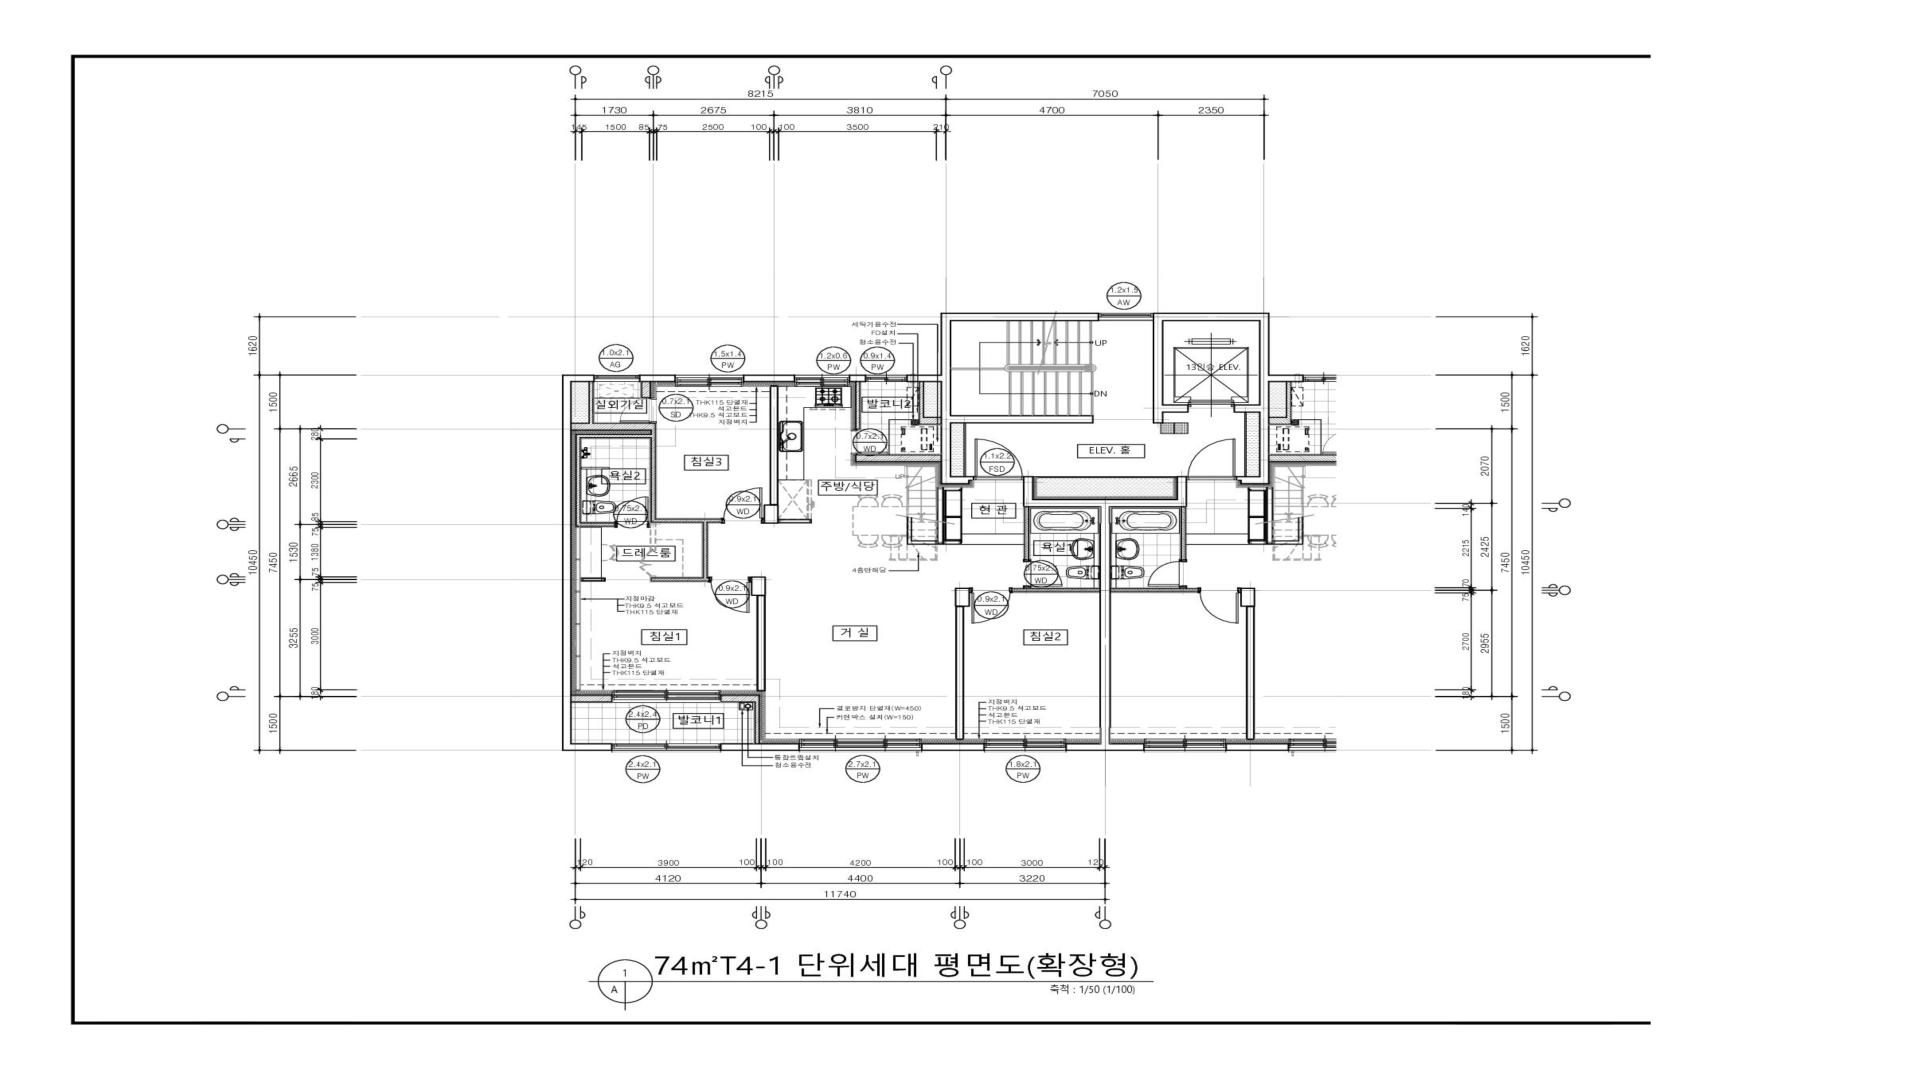door: (975, 438, 1022, 483), (723, 487, 764, 524), (709, 576, 750, 613), (971, 588, 1011, 624), (615, 496, 650, 527), (1023, 560, 1063, 588), (620, 398, 657, 423), (851, 430, 887, 455)
wall: (1023, 476, 1187, 750), (906, 313, 1098, 485), (1153, 313, 1270, 484), (562, 375, 612, 752), (955, 607, 964, 740), (770, 385, 779, 504), (757, 596, 766, 691), (720, 742, 799, 752), (855, 455, 940, 463), (571, 423, 655, 431), (575, 438, 580, 526), (936, 487, 944, 545), (922, 744, 985, 750), (744, 375, 795, 382), (1034, 476, 1176, 479), (651, 431, 655, 522), (1011, 588, 1100, 592), (571, 695, 612, 703), (764, 504, 779, 524), (575, 434, 651, 438), (752, 576, 766, 596), (1025, 506, 1030, 560), (640, 375, 675, 382), (955, 588, 969, 607), (655, 518, 723, 522), (720, 695, 760, 702), (855, 382, 860, 430), (651, 578, 709, 582), (588, 381, 593, 423), (703, 522, 707, 578), (754, 702, 760, 742), (963, 423, 967, 476), (919, 382, 924, 417), (779, 518, 812, 524), (919, 417, 940, 425), (641, 382, 651, 398), (906, 517, 913, 541), (580, 522, 616, 526), (849, 375, 866, 382), (906, 541, 936, 545), (582, 578, 605, 582), (1245, 413, 1246, 476), (944, 541, 961, 545)
window: (800, 738, 920, 753), (612, 690, 720, 703), (985, 738, 1065, 753), (612, 744, 720, 753), (676, 375, 742, 386), (795, 375, 849, 386), (1098, 313, 1153, 322), (595, 375, 640, 382), (866, 375, 906, 382)
